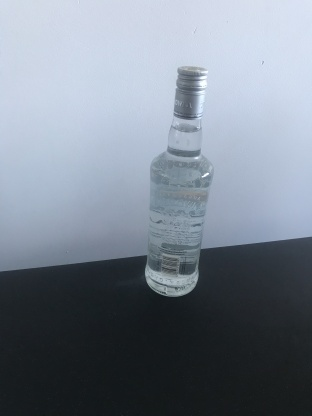nakretka: (171, 63, 210, 122)
